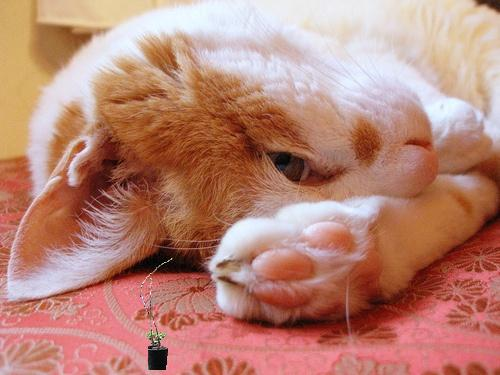tampered: (141, 258, 173, 370)
